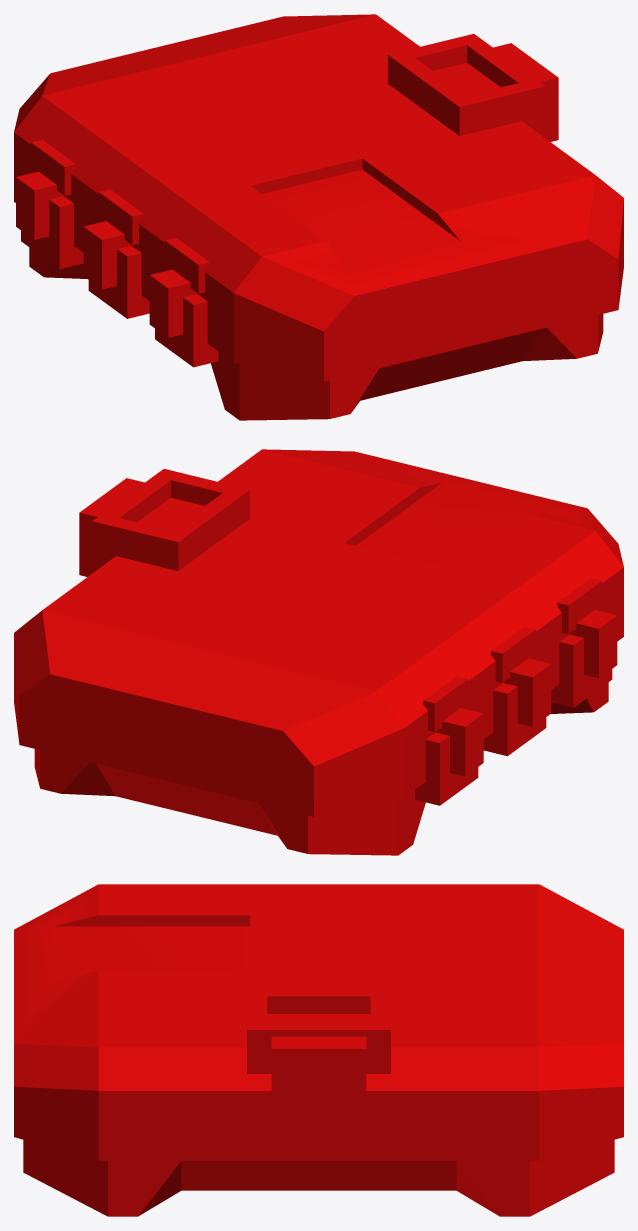
Rendered from firstaidkit.fbx.
3 views of the same model, one above another, from view 1: azimuth 30°, elevation 25°; view 2: azimuth 150°, elevation 25°; view 3: azimuth 270°, elevation 25° (orthographic).
Visible parts, largest first — view 1: firstAidKit; view 2: firstAidKit; view 3: firstAidKit.
Boxes of the visible parts, x1,y1,x2,y2 form: firstAidKit: (14, 14, 623, 420); firstAidKit: (14, 449, 623, 855); firstAidKit: (14, 884, 623, 1216).
Bounding box in the file's own units: 0.5581 × 0.2324 × 0.6678.
